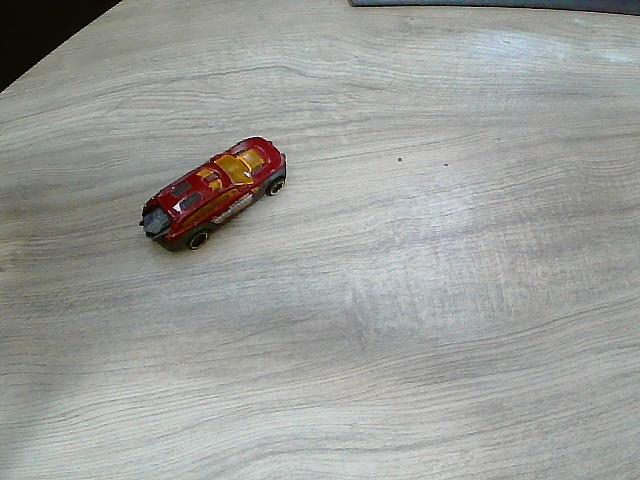Carro: (140, 140, 287, 253)
